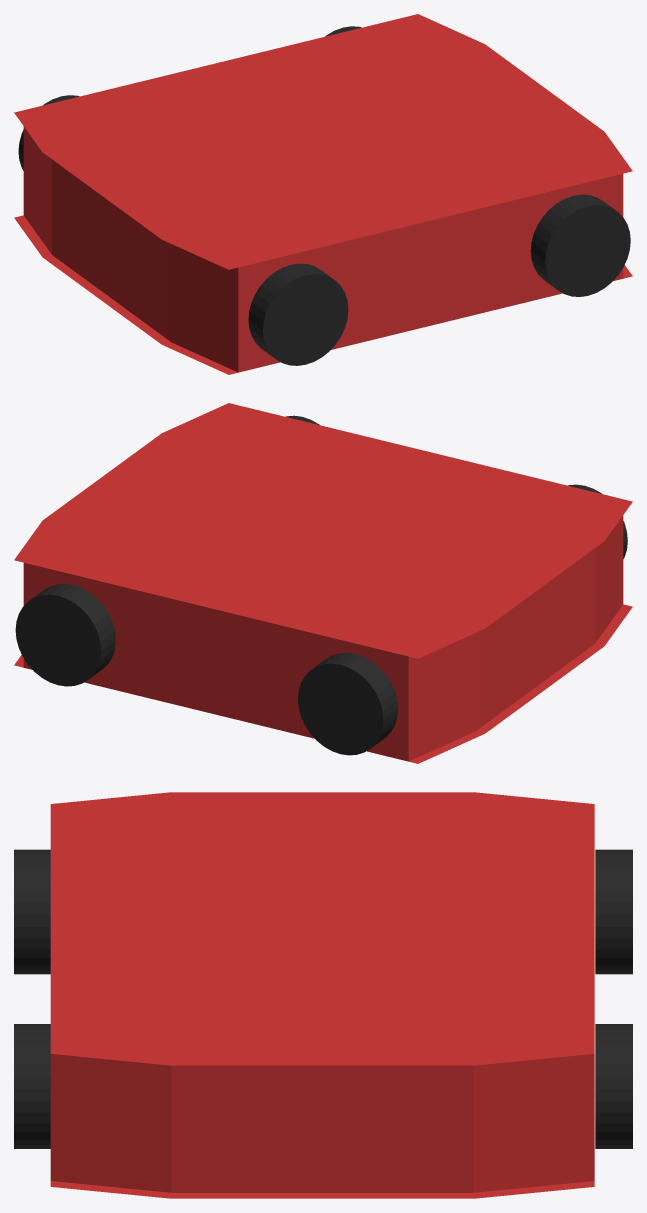
The model's file is 0xDelta_003.dae.
3 renders of one model, top to bottom at view 1: azimuth 30°, elevation 25°; view 2: azimuth 150°, elevation 25°; view 3: azimuth 270°, elevation 25°, orthographic. The views are drawn at different scales.
Visible parts, largest first — view 1: Grid; view 2: Grid; view 3: Grid.
Part boxes in pixels (bbox=[...]): Grid: bbox=[14, 14, 632, 374]; Grid: bbox=[14, 403, 632, 763]; Grid: bbox=[14, 792, 632, 1198].
Size of the model in its own units: 0.5599 by 0.5356 by 0.1271.
